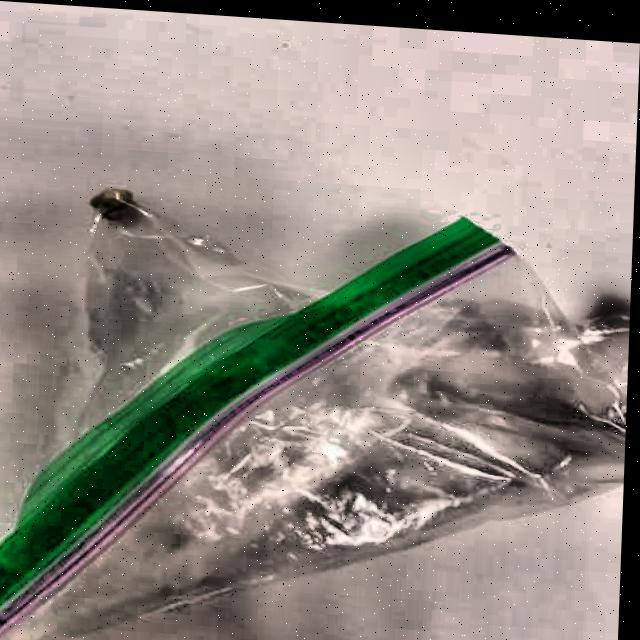plastic: (0, 174, 634, 640)
